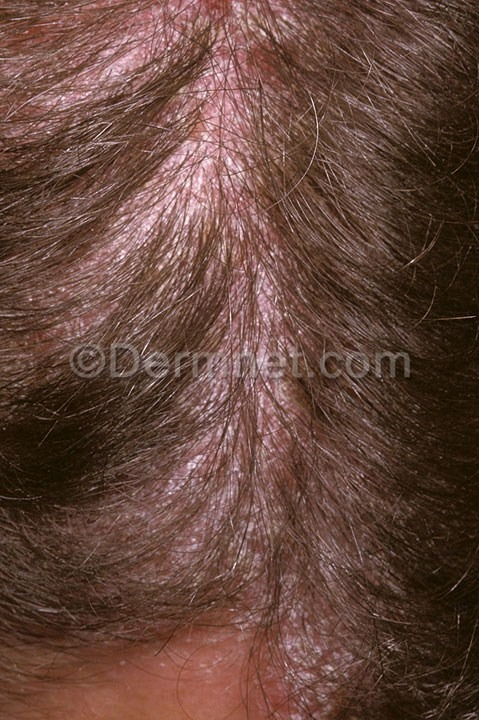Psoriasis: (106, 9, 316, 595), (246, 551, 390, 713)
